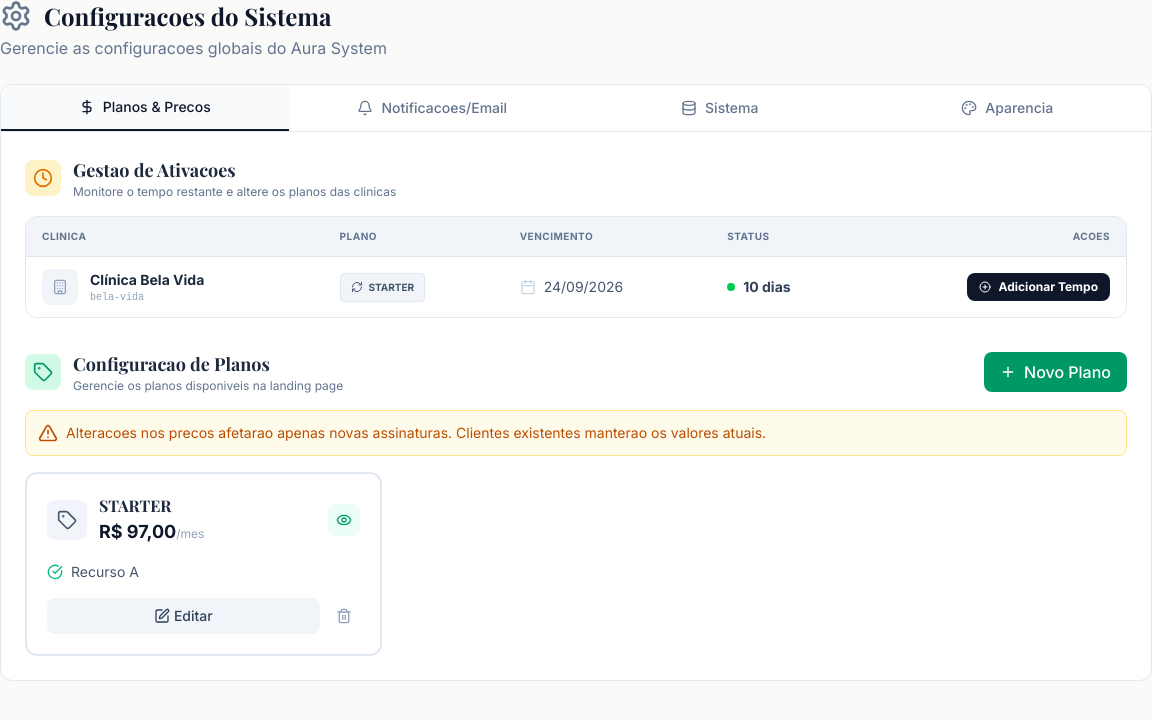
pages/king/KingSettings — Configuração de Planos (CRUD) › erro ao criar plano exibe a mensagem no modal
This screenshot has width=1152, height=720.
Click the button "Novo Plano": {"x": 1056, "y": 372} 984,352 -> 1127,392
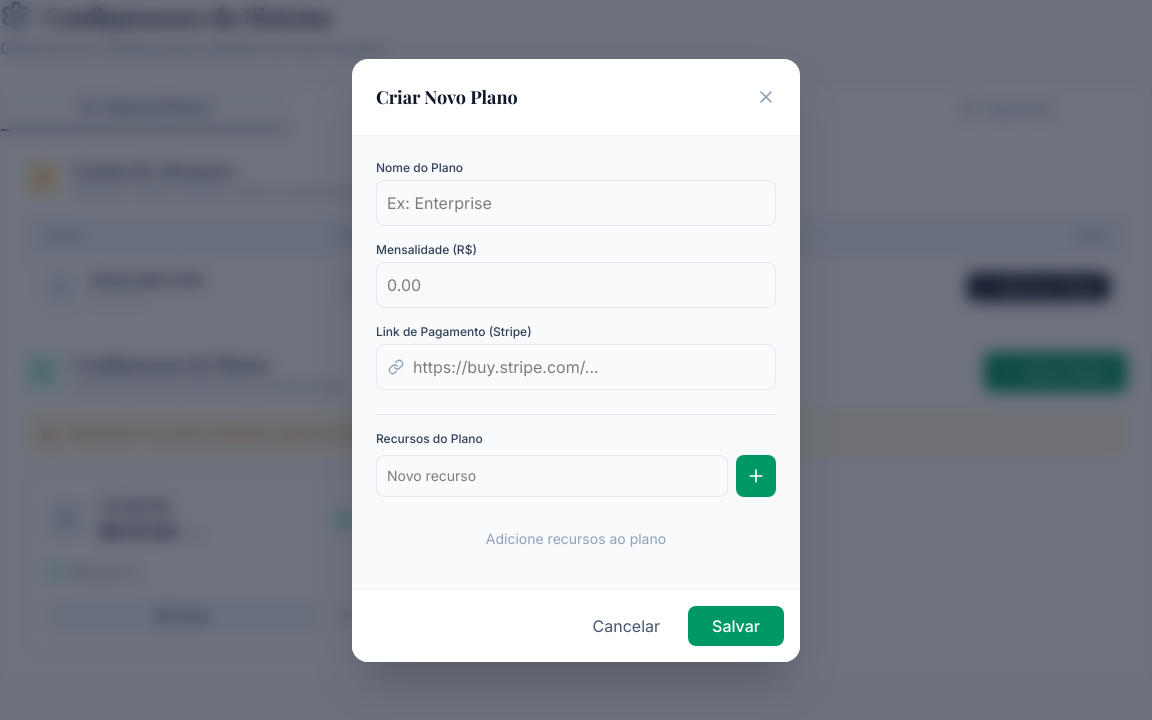
In the field with placeholder "Ex: Enterprise": {"x": 576, "y": 202} 376,180 -> 776,226, type "Gold"
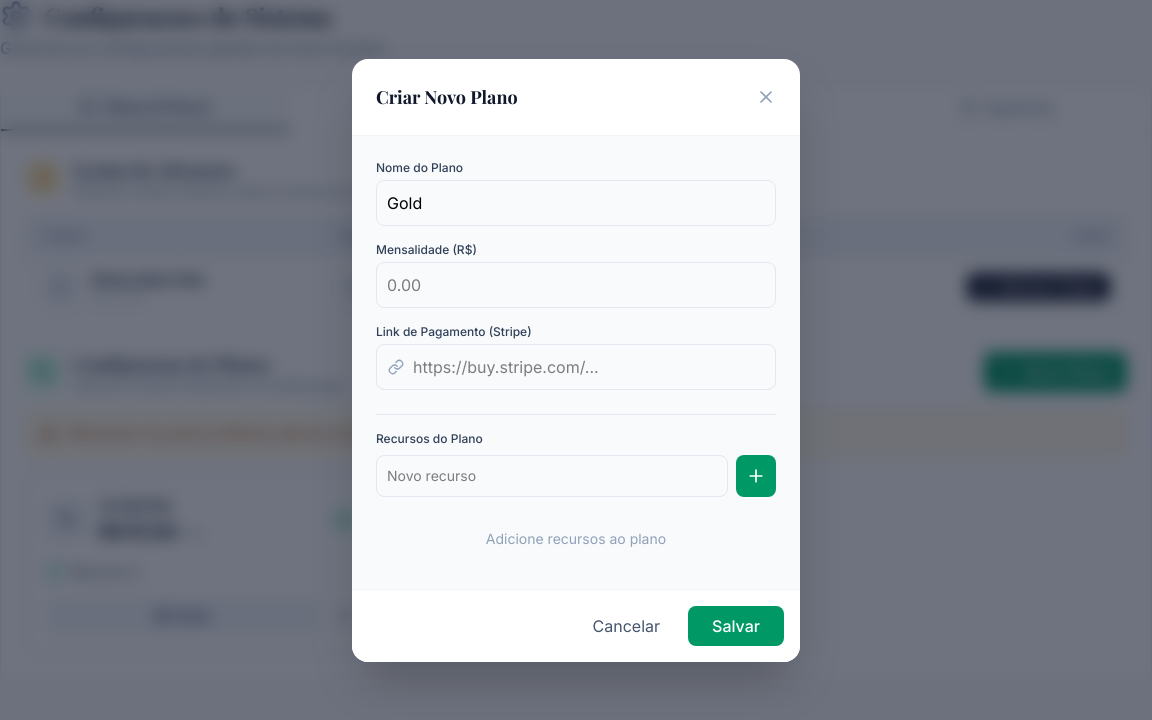
In the number field with placeholder "0.00": {"x": 576, "y": 284} 376,262 -> 776,308, type "199"
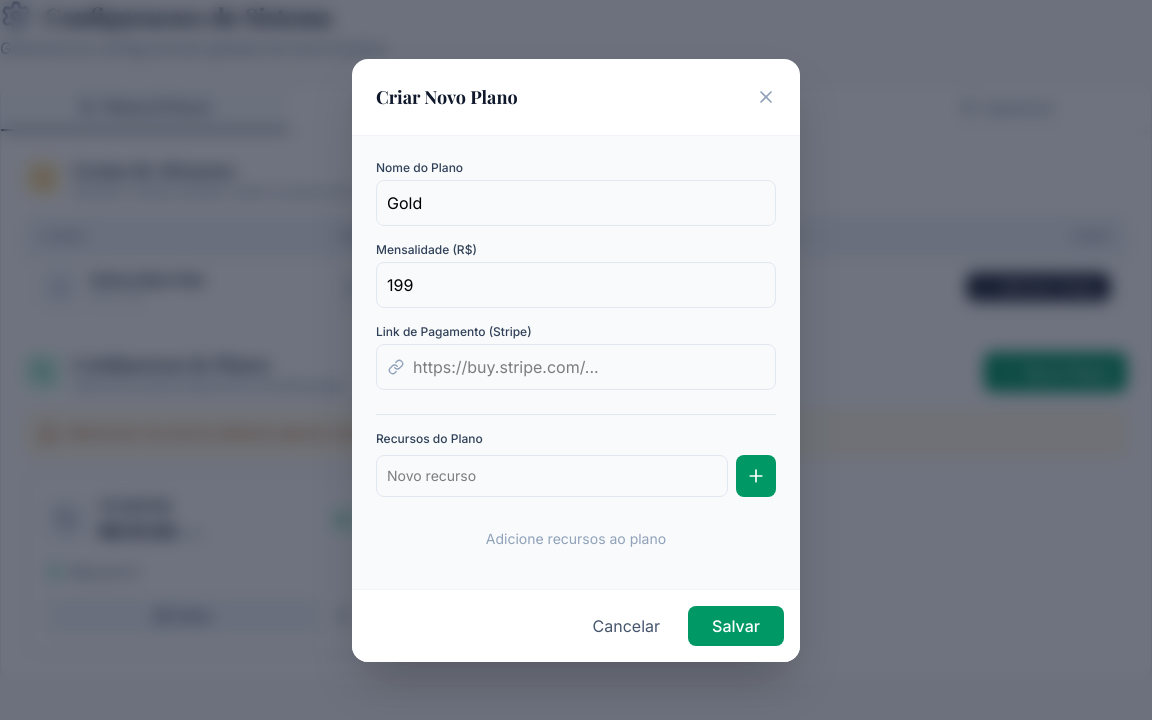
In the field with placeholder "Novo recurso": {"x": 552, "y": 476} 376,454 -> 728,496, type "X"
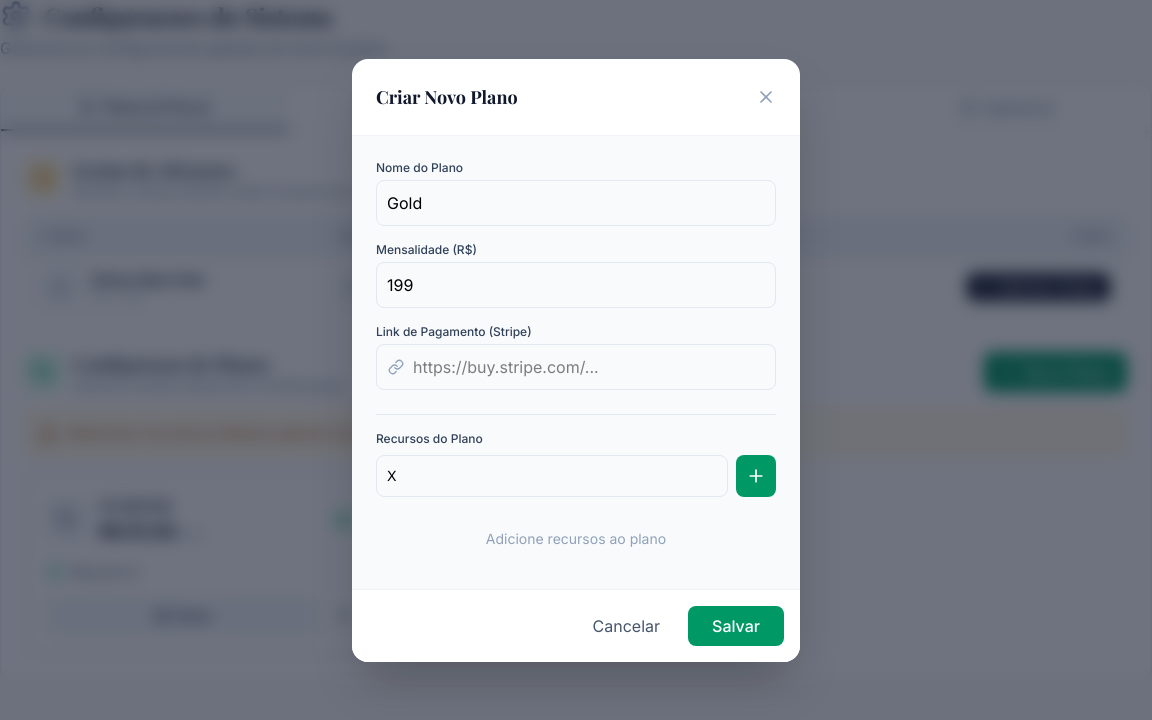
Press Enter in the field with placeholder "Novo recurso" below "Recursos do Plano", box 376,454 -> 728,496
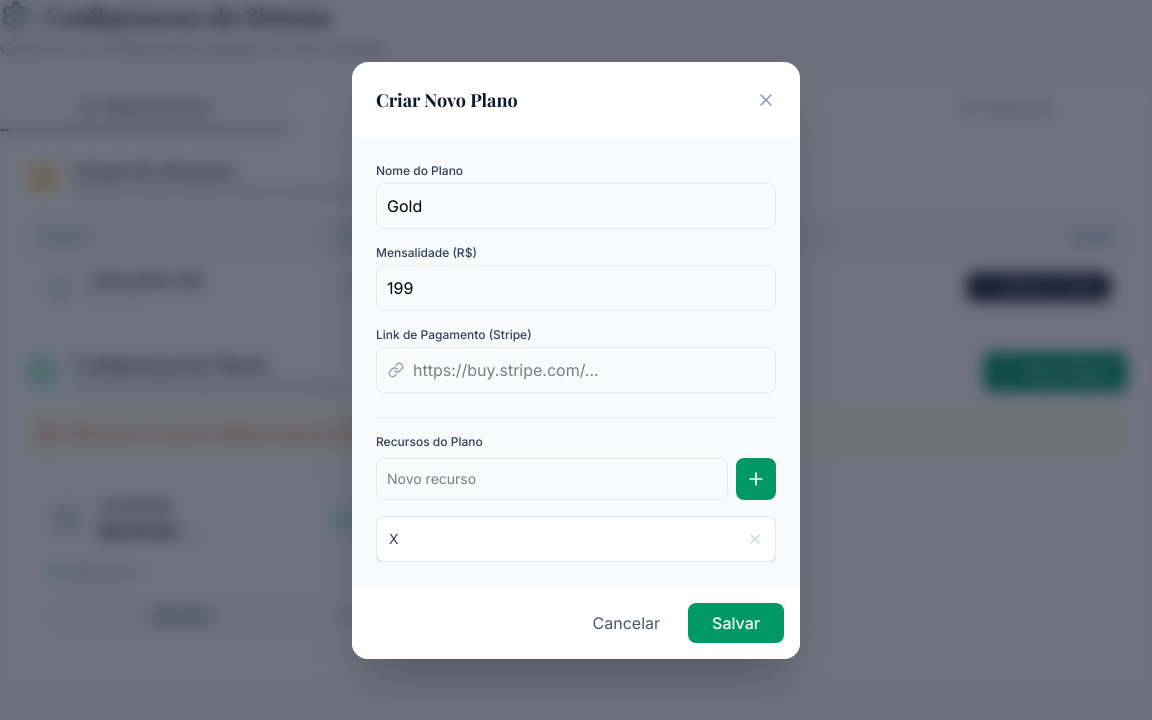
Click the button "Salvar": {"x": 736, "y": 622} 688,602 -> 784,642
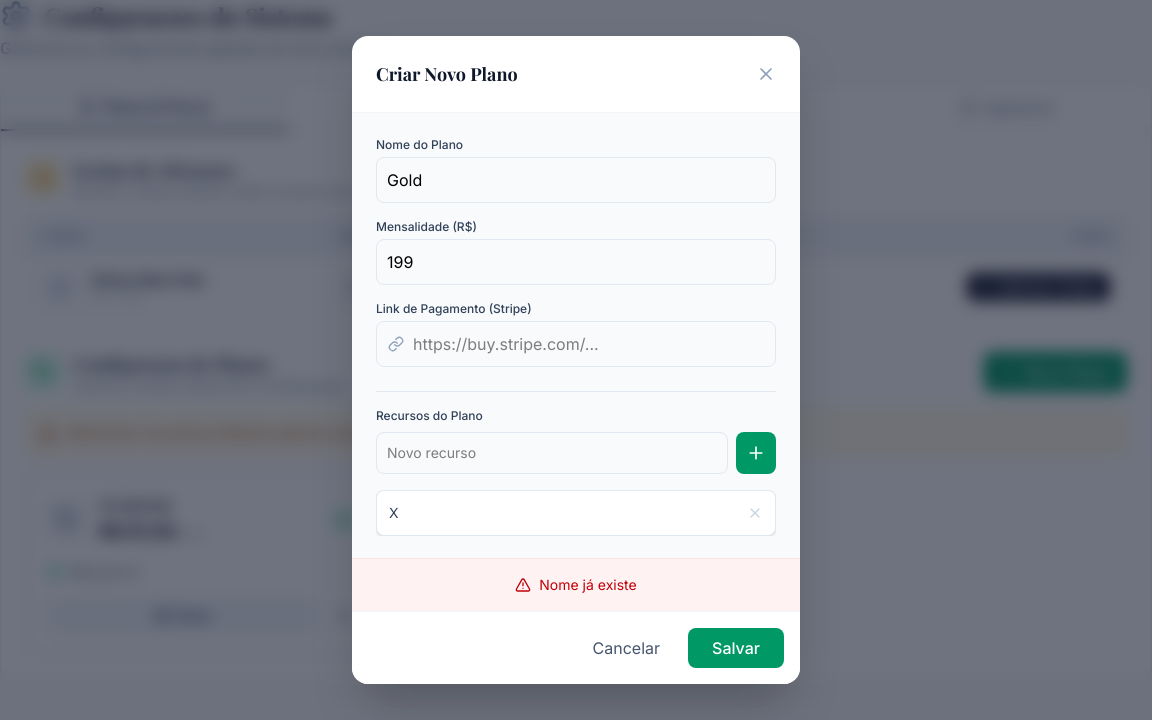
Expected: the text "Nome já existe" is shown, 352,558 -> 800,611
